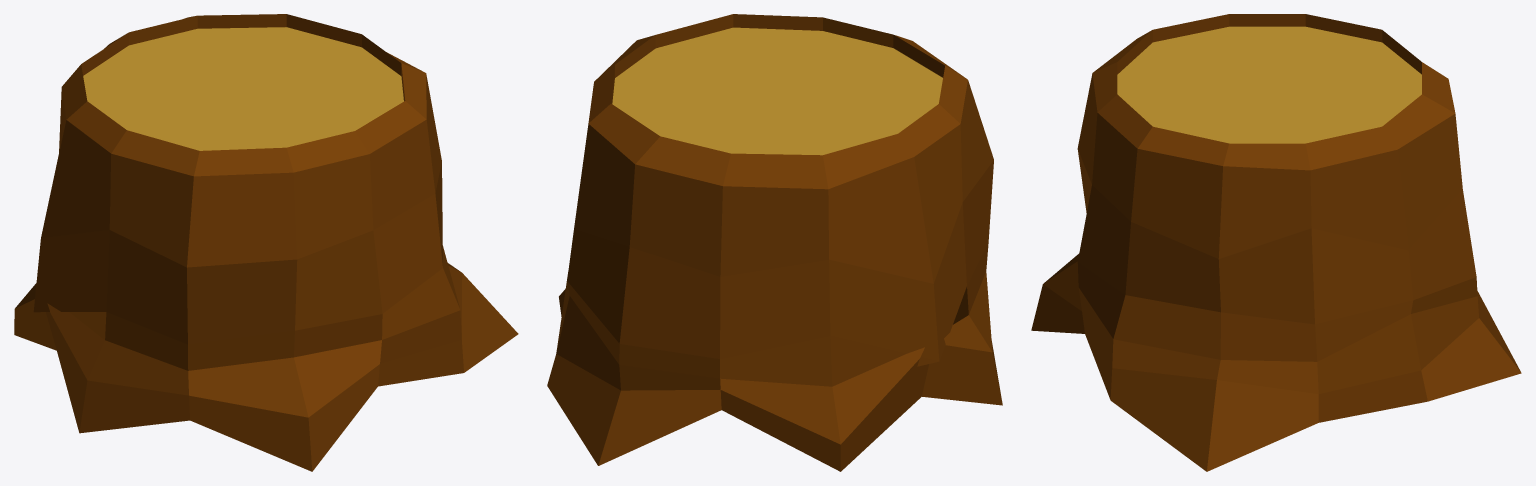
The model's file is souche.fbx.
The picture shows the model from 3 angles, left to right: view 1: azimuth 30°, elevation 25°; view 2: azimuth 150°, elevation 25°; view 3: azimuth 270°, elevation 25°; orthographic projection. The views are drawn at different scales.
Parts seen in each view (by area): view 1: Cube, Cylindre; view 2: Cube, Cylindre; view 3: Cube, Cylindre.
Boxes of the visible parts, x1,y1,x2,y2 form: Cube: (14, 14, 518, 471); Cylindre: (83, 27, 403, 150); Cube: (547, 14, 1002, 471); Cylindre: (612, 27, 942, 155); Cube: (1031, 14, 1521, 471); Cylindre: (1117, 26, 1421, 143).
Size of the model in its own units: 1126 by 713 by 1138.
